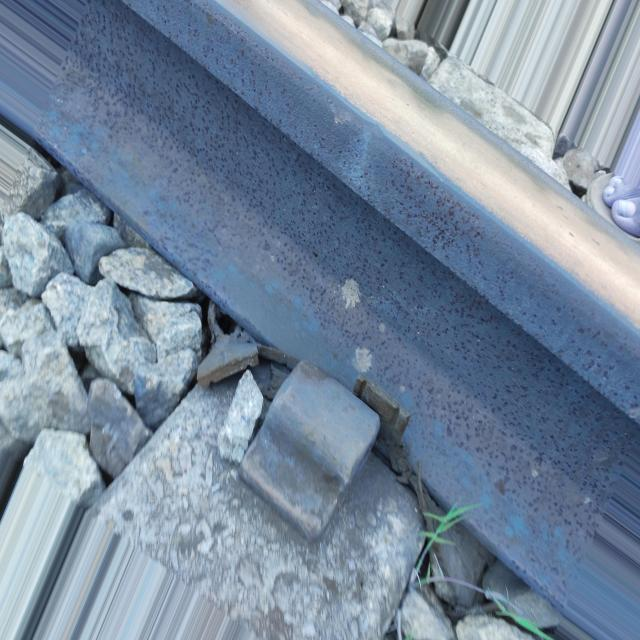Missing Fastener: (203, 325, 395, 579)
